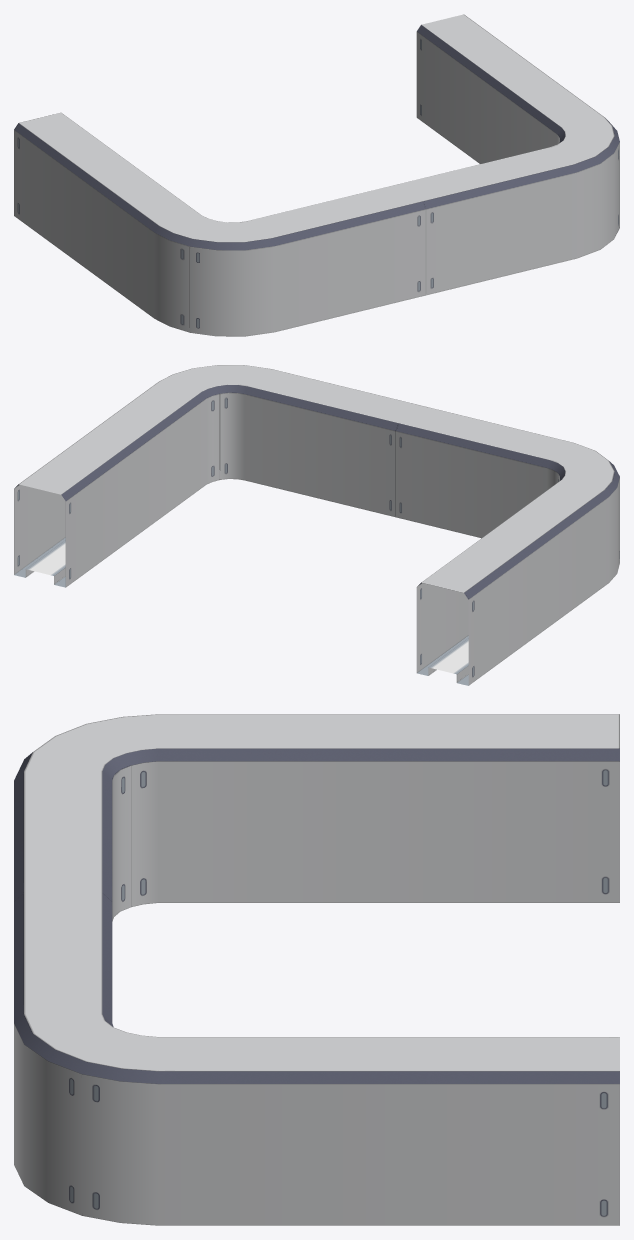
The model's file is Interior_Roof_Light_01.FBX.
3 renders of one model, top to bottom at view 1: azimuth 30°, elevation 25°; view 2: azimuth 150°, elevation 25°; view 3: azimuth 270°, elevation 25°, orthographic. The views are drawn at different scales.
Visible parts, largest first — view 1: Interior_Roof_Light_01; view 2: Interior_Roof_Light_01; view 3: Interior_Roof_Light_01.
Part boxes in pixels (x1,y1,x2,y2): Interior_Roof_Light_01: (14,14,619,336); Interior_Roof_Light_01: (14,365,619,685); Interior_Roof_Light_01: (14,714,619,1225).
Bounding box in the file's own units: 5.18 × 1 × 3.64.
Materials: 1 (1 with a texture image).
